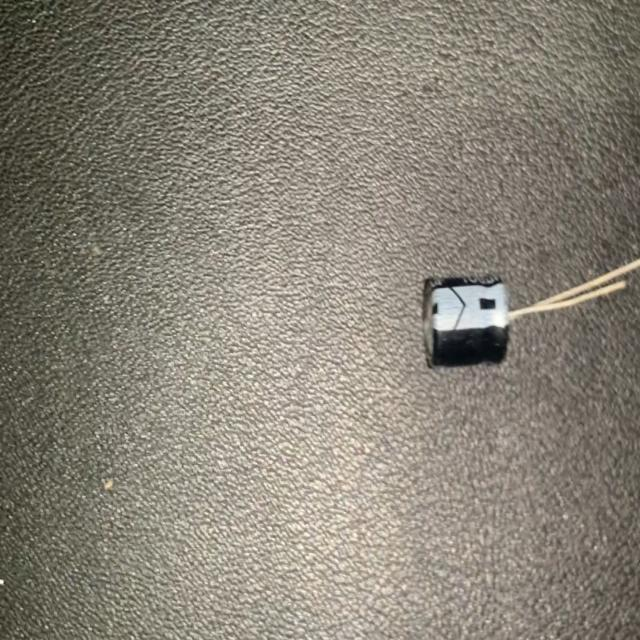capacitor: (416, 241, 640, 381)
